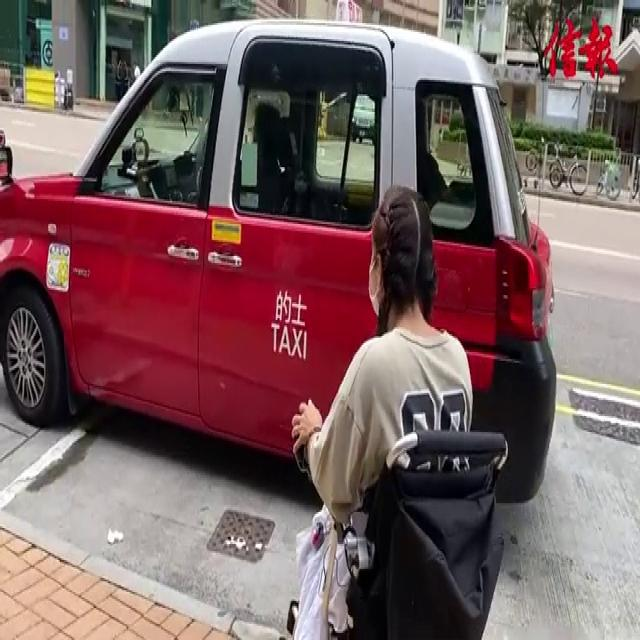wheelchairs: (273, 362, 512, 640)
